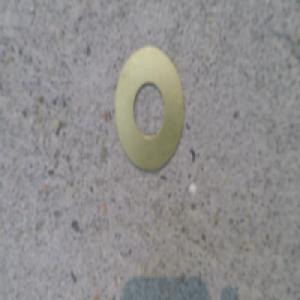Washer: (115, 44, 186, 175)
